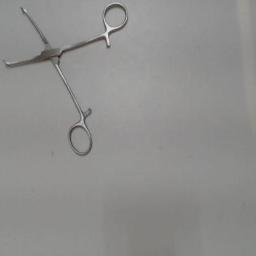Allis Tissue Forceps: (1, 0, 131, 160)
